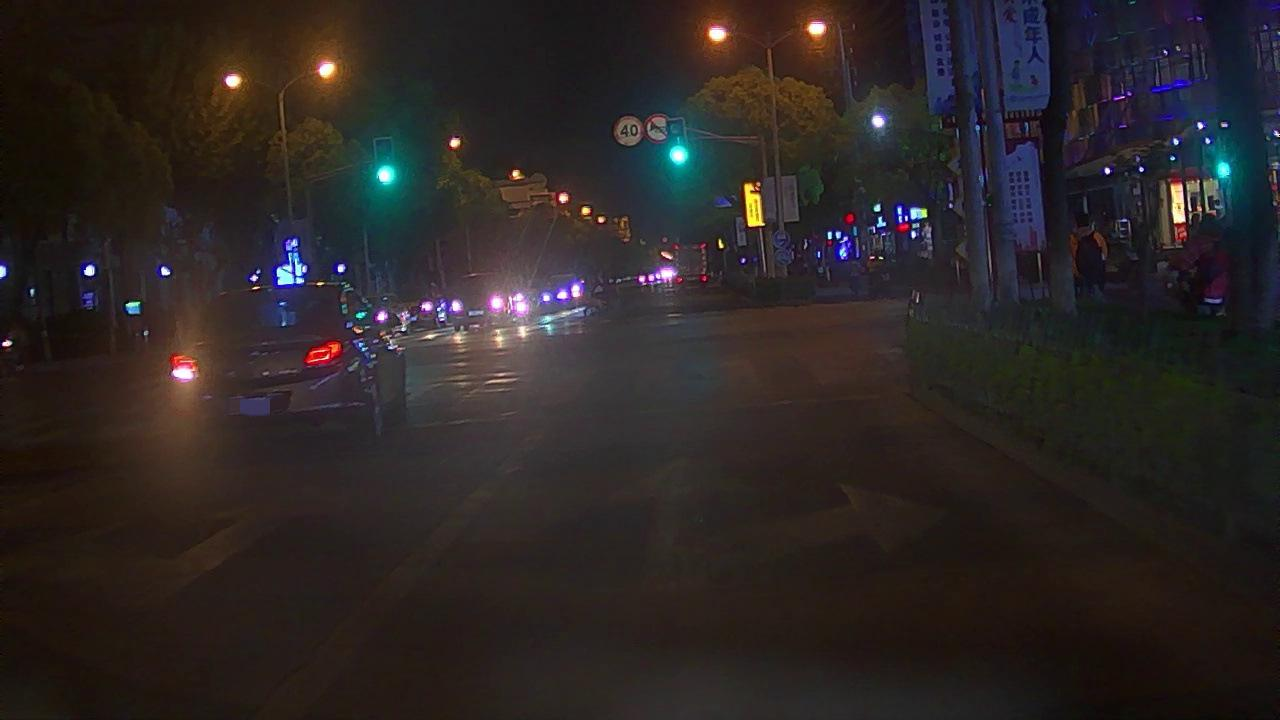traffic_light: (666, 121, 689, 169), (373, 141, 394, 186)
